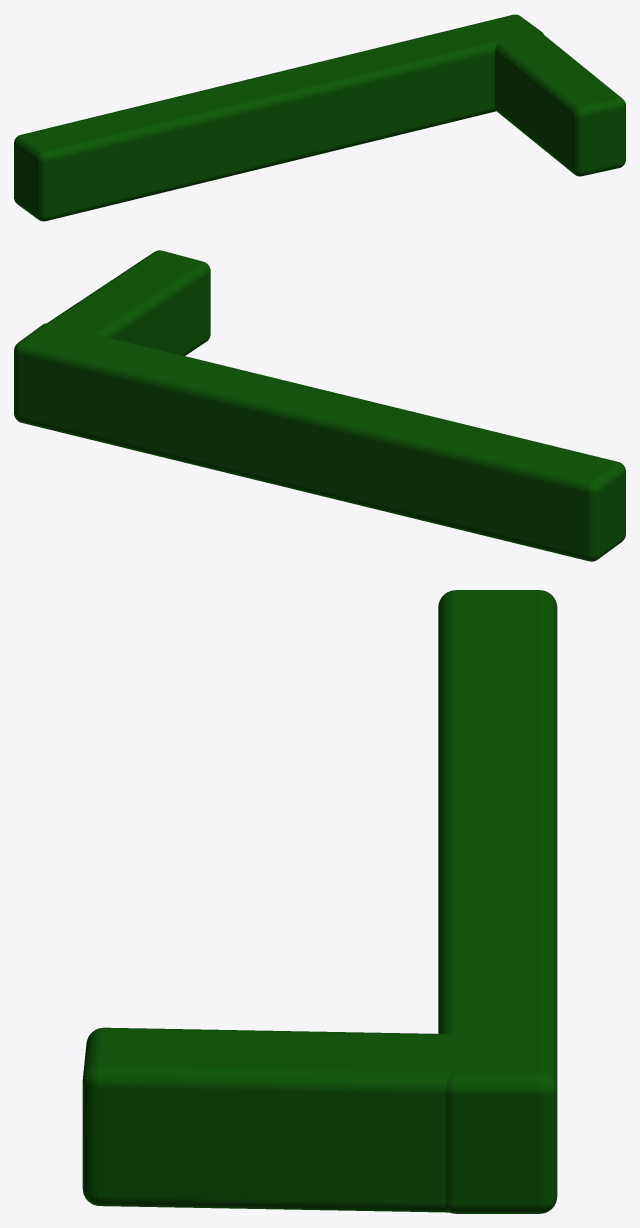
The model's file is Bushes - Lvl 1.fbx.
3 renders of one model, top to bottom at view 1: azimuth 30°, elevation 25°; view 2: azimuth 150°, elevation 25°; view 3: azimuth 270°, elevation 25°, orthographic. The views are drawn at different scales.
Visible parts, largest first — view 1: Box 6, Box 13; view 2: Box 6, Box 13; view 3: Box 6, Box 13.
Part boxes in pixels (x1=…): Box 6: x1=14, y1=14, x2=543, y2=221; Box 13: x1=495, y1=31, x2=625, y2=176; Box 6: x1=14, y1=323, x2=625, y2=561; Box 13: x1=48, y1=250, x2=210, y2=355; Box 6: x1=438, y1=590, x2=557, y2=1213; Box 13: x1=82, y1=1027, x2=460, y2=1212.
Bounding box in the file's own units: 266 × 108 × 35.
